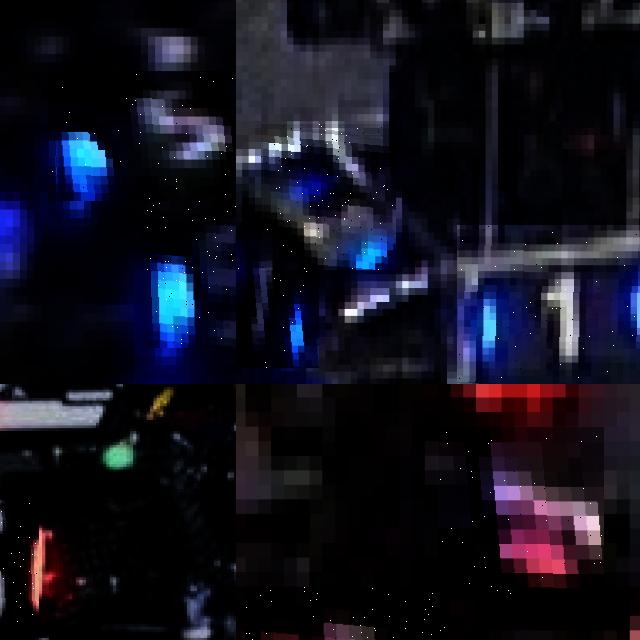B1: (456, 225, 640, 384), (261, 124, 396, 270), (236, 222, 319, 368)
B5: (48, 71, 236, 200), (140, 201, 236, 348)
R3: (438, 427, 604, 601), (245, 586, 450, 640)
R5: (0, 494, 38, 626)
